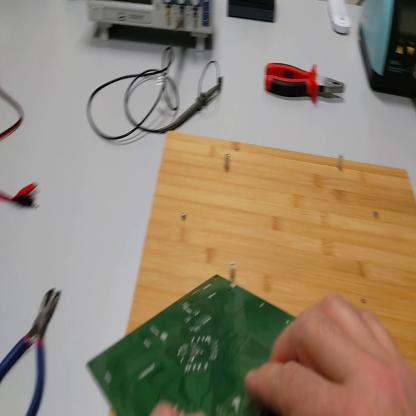hand: (246, 295, 416, 416), (152, 399, 183, 415)
low voltage board: (85, 276, 292, 416)
oscilloscope: (88, 2, 215, 51)
oscilloscope probe tip: (165, 84, 218, 132)
pliers: (2, 286, 61, 414), (265, 65, 346, 105)
welder station: (359, 4, 416, 100)
working area: (124, 130, 416, 360)
